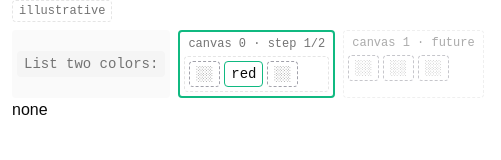
Scenario: BlockDiffusionCanvas › clicking a slot chip selects it in the shared selection context
Click the button with aria-label "Slot 2: red, committed" at (244, 74), box 224,61 -> 263,87
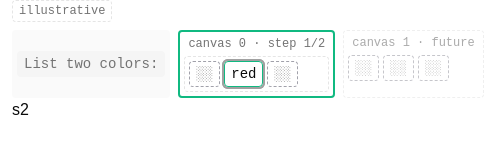
Expected: the text with test id "probe" reads "s2", 12,101 -> 29,118
